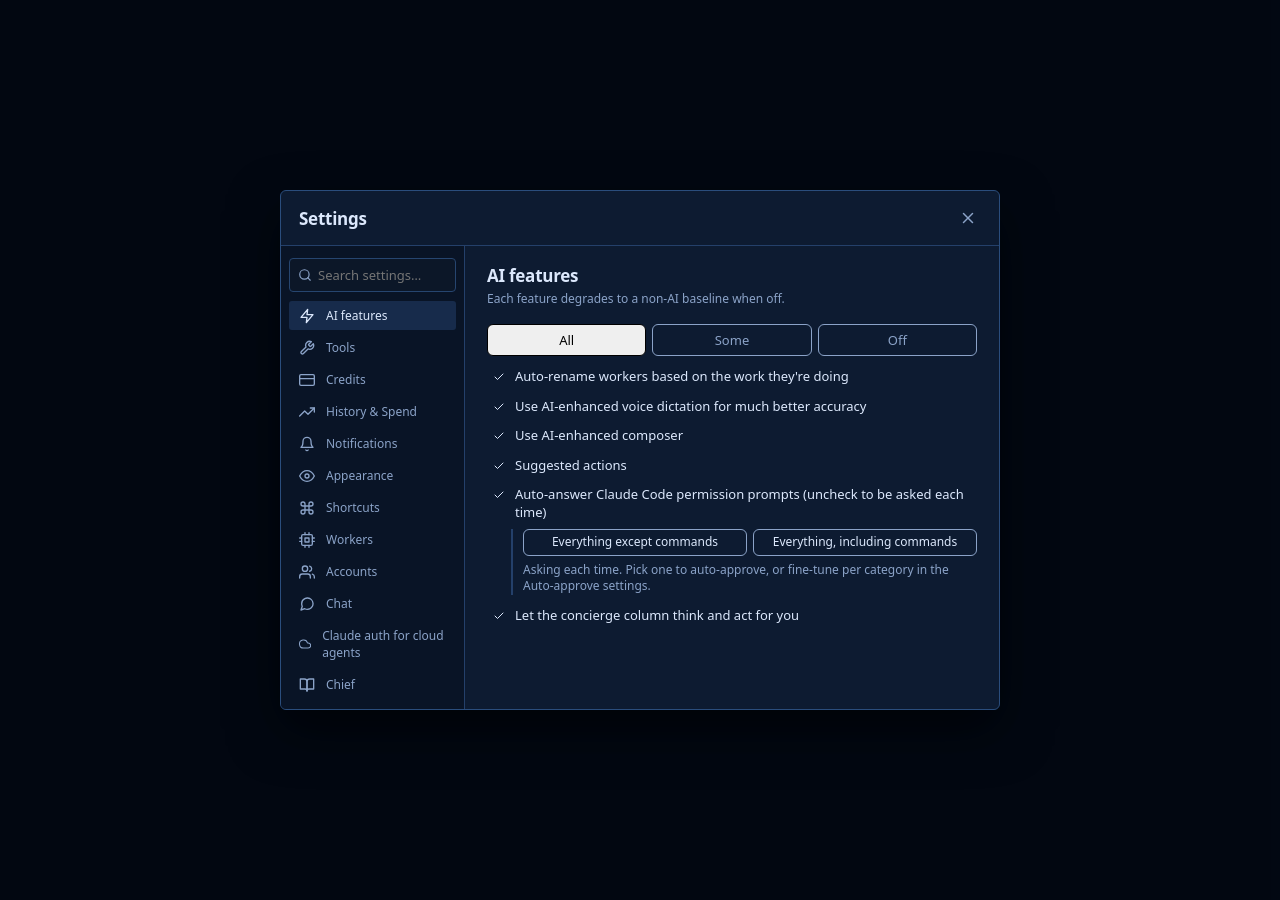
Scenario: SettingsDialog — rail search › matches a query that mixes a category's LABEL with one of its keywords
The image size is (1280, 900).
In the field labelled "Search settings": (372, 275) 289,258 -> 456,292, type "mobile pair"
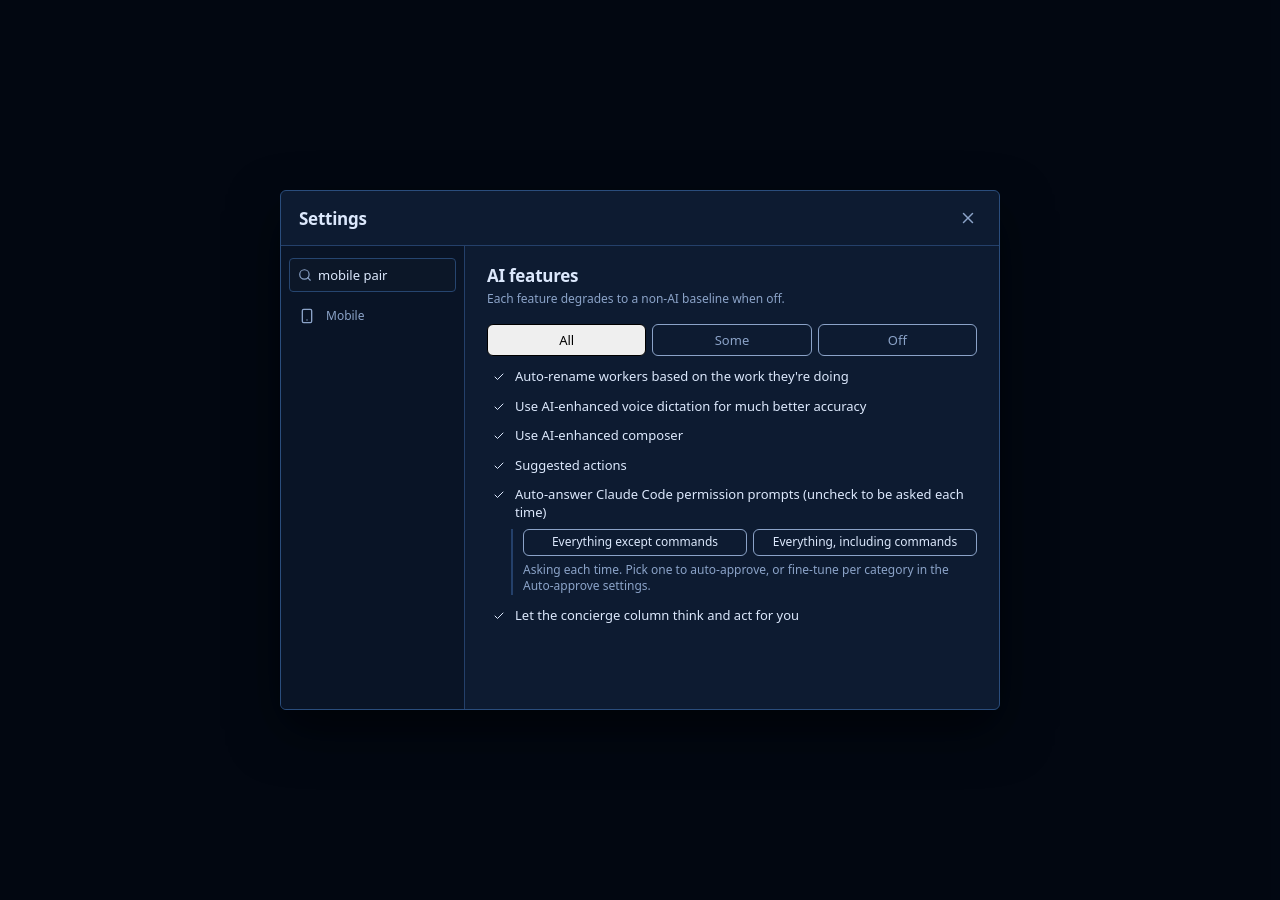
Now the button "Mobile" is shown, box 289,301 -> 456,330
Replace the text in the field named "Search settings" with "voice dictation": (372, 275) 289,258 -> 456,292
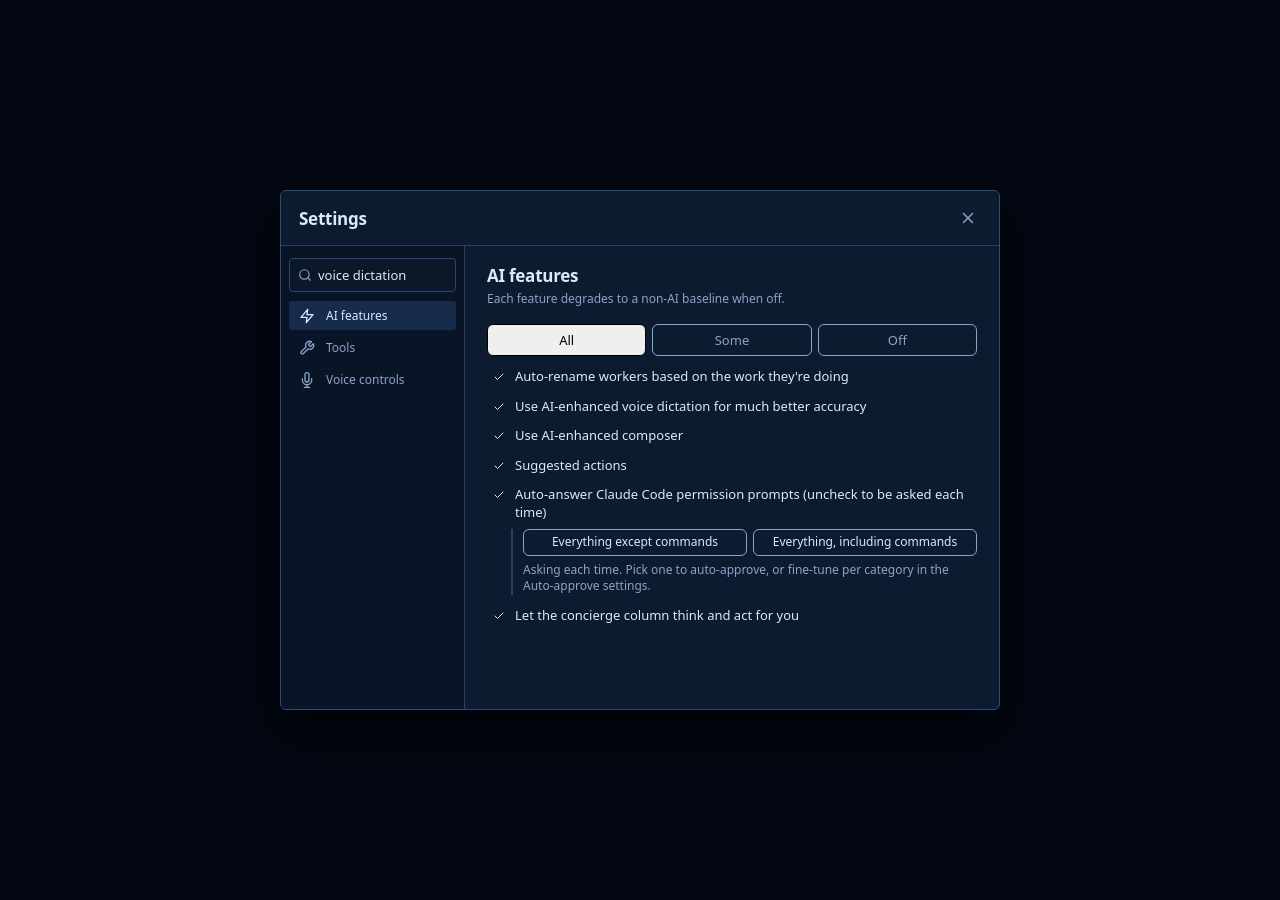
Now the button "Voice controls" is shown, box 289,365 -> 456,394
Replace the text in the field named "Search settings" with "shortcuts hotkeys": (372, 275) 289,258 -> 456,292
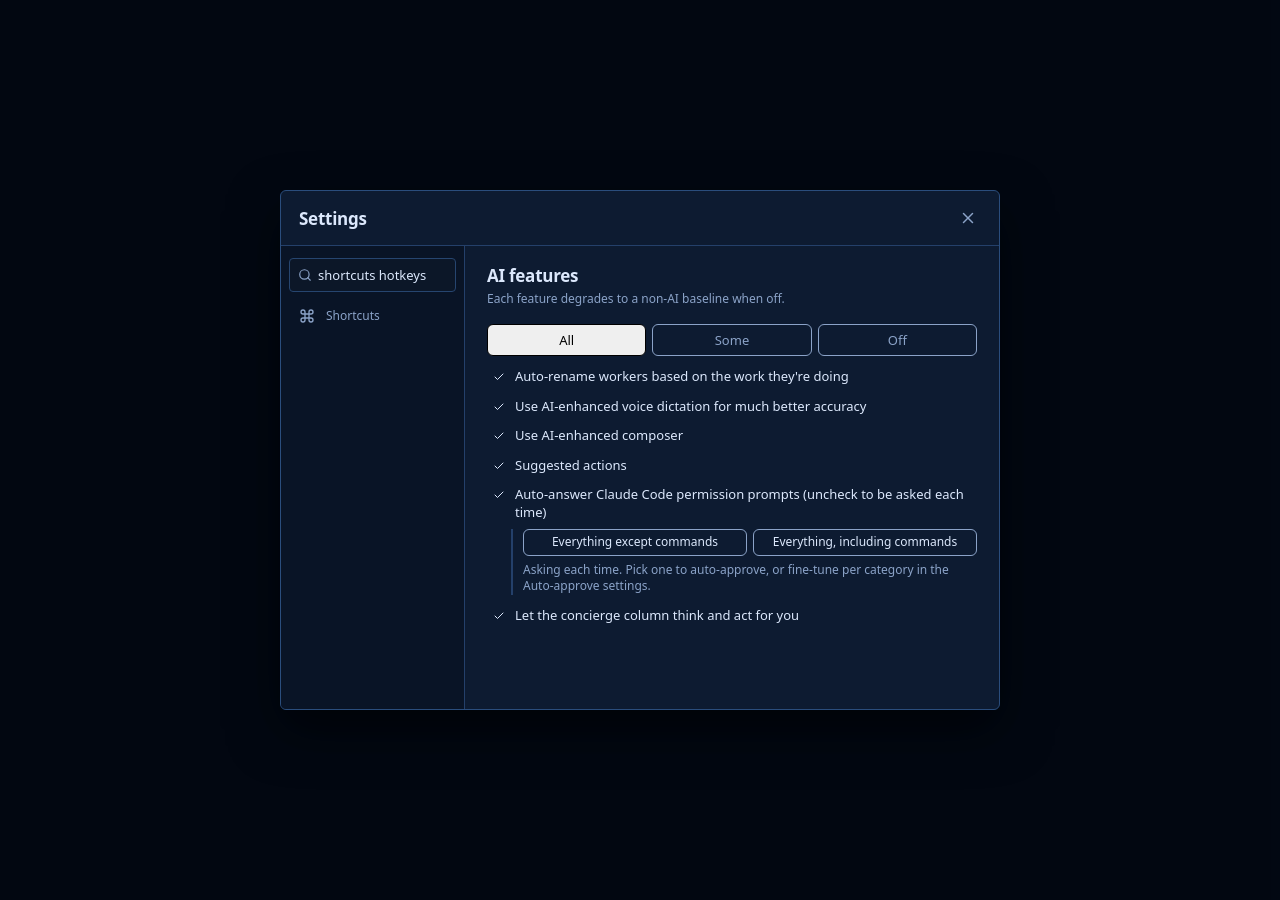
Now the button "Shortcuts" is shown, box 289,301 -> 456,330
